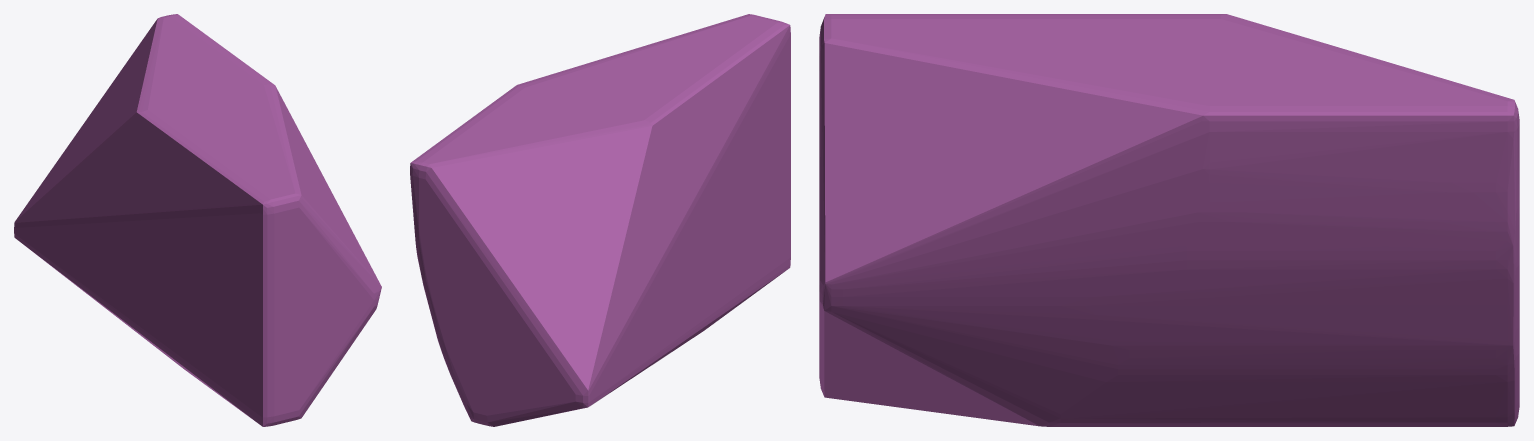
File: left_shoulder_roll_link_part_7.obj
3 renders of one model, left to right at view 1: azimuth 30°, elevation 25°; view 2: azimuth 150°, elevation 25°; view 3: azimuth 270°, elevation 25°, orthographic. The views are drawn at different scales.
Bounding box in the file's own units: 0.019 × 0.0249 × 0.0442.
